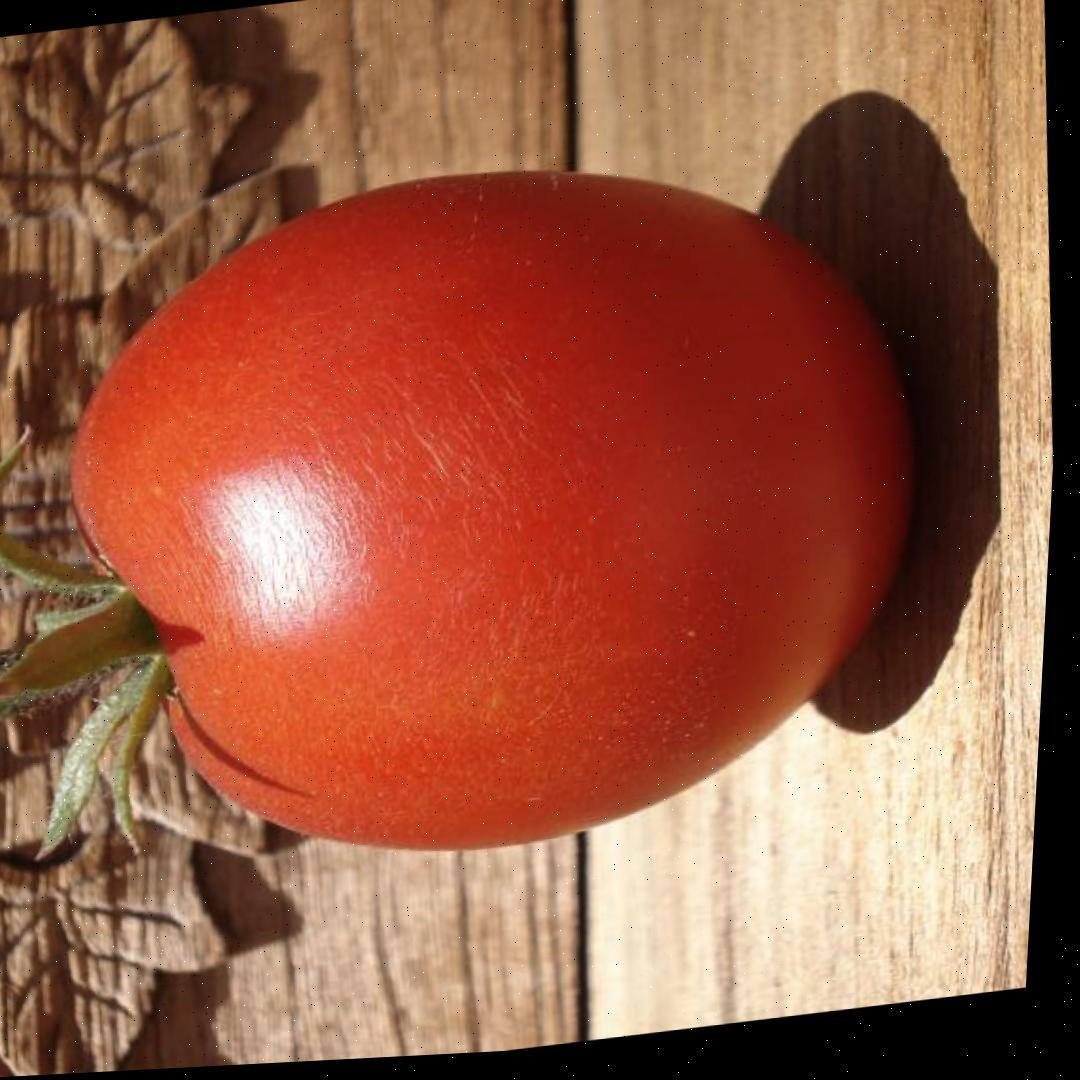matang: (0, 113, 964, 914)
